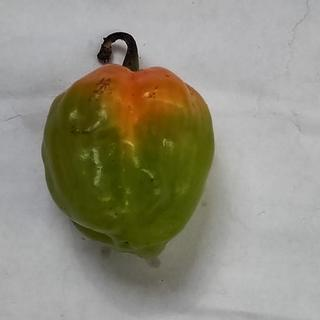Grade-B: (37, 57, 216, 254)
